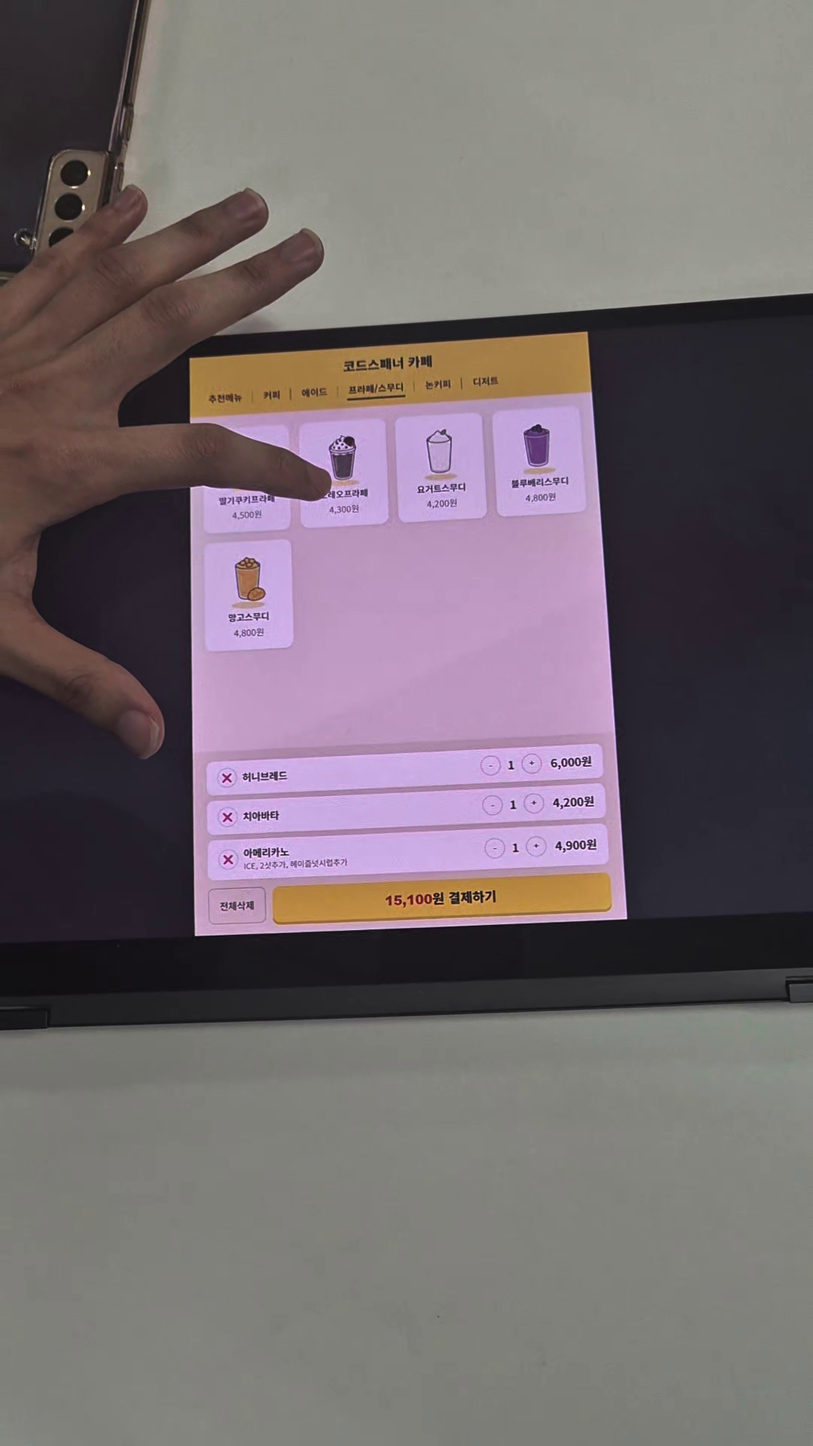action_button: (209, 887, 265, 925)
cart_item: (207, 824, 609, 881), (206, 742, 604, 797), (206, 783, 606, 837)
category_tab: (347, 381, 405, 396), (207, 393, 243, 405), (424, 378, 453, 391), (301, 386, 328, 399), (472, 376, 500, 388), (263, 390, 282, 401)
menu_back: (273, 872, 613, 924), (494, 404, 584, 518), (396, 410, 485, 524), (203, 539, 292, 652), (298, 417, 387, 530)
menu_name: (510, 475, 570, 489), (415, 481, 467, 495), (217, 494, 276, 506), (315, 488, 369, 501), (242, 846, 291, 860), (241, 770, 289, 784), (242, 809, 280, 823), (227, 611, 270, 623)
menu_price: (547, 754, 596, 772), (549, 793, 598, 811), (553, 836, 601, 854), (523, 492, 557, 503), (424, 498, 458, 509), (327, 504, 360, 515), (232, 627, 265, 638), (230, 510, 263, 520)
